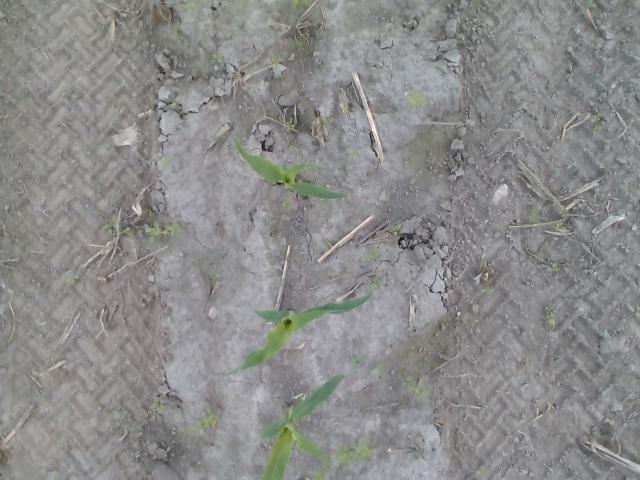Maize: (207, 292, 376, 375), (257, 374, 346, 480), (232, 136, 351, 200)
Weeds: (334, 442, 376, 464), (398, 373, 429, 400), (186, 408, 218, 432), (146, 222, 180, 244), (406, 92, 428, 112), (590, 111, 606, 136), (350, 350, 369, 368), (320, 110, 334, 130), (308, 470, 331, 480), (542, 262, 561, 274), (371, 366, 386, 380), (367, 246, 382, 260), (627, 304, 640, 320), (148, 401, 164, 414), (102, 220, 115, 236), (208, 52, 224, 65), (368, 276, 382, 290), (545, 310, 556, 327), (158, 156, 171, 170), (182, 0, 195, 14), (292, 0, 312, 9), (478, 286, 496, 295), (271, 53, 280, 71), (124, 226, 137, 238), (169, 95, 181, 108), (526, 212, 538, 224), (167, 27, 177, 40), (66, 274, 79, 284), (391, 224, 401, 236), (279, 198, 291, 208), (556, 222, 570, 230), (389, 34, 400, 44), (238, 0, 248, 10), (477, 466, 488, 474), (286, 118, 294, 128), (588, 0, 596, 9), (352, 152, 358, 160)
